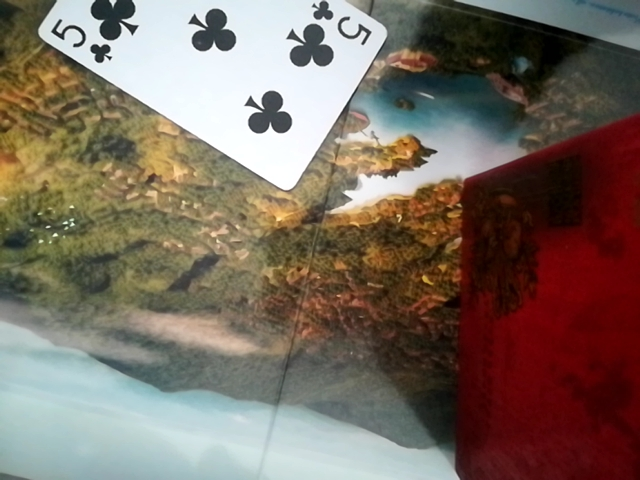mh 5: (49, 0, 390, 185)
